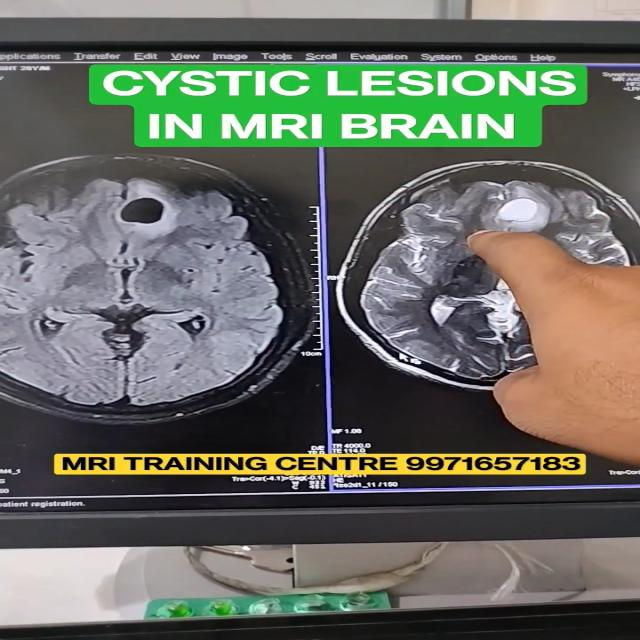tumor: (481, 192, 567, 244), (131, 209, 189, 230)
